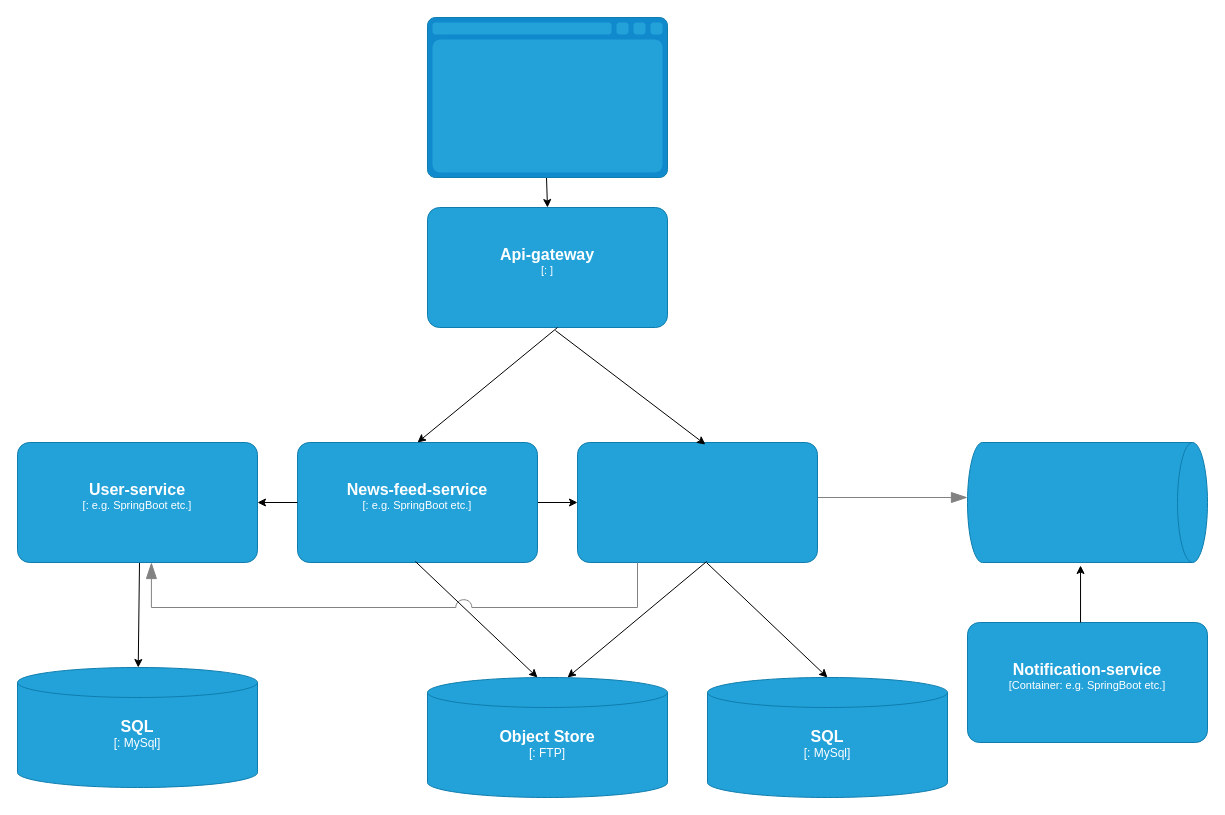
Image size: 1225x815. Some labels were removed from this diagram. The centre of each missing label's shape, as x and y in pixels:
"Client [: Mobile app]" goes at point (547, 97).
"Message queue [: e.g. Apache Kafka, etc.]" goes at point (1087, 502).
"Post-service [: e.g. SpringBoot etc.]" goes at point (697, 502).
